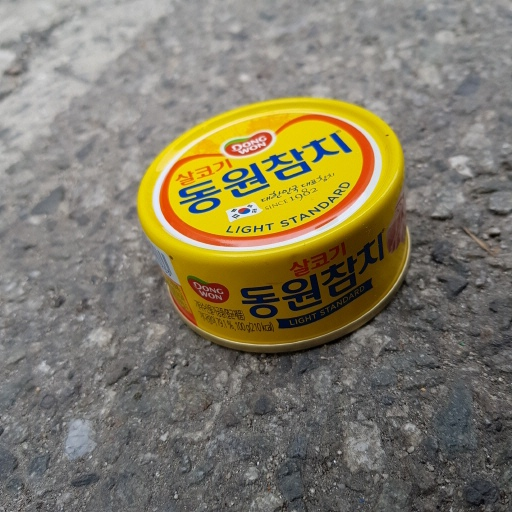Metal_1: (135, 92, 414, 363)
